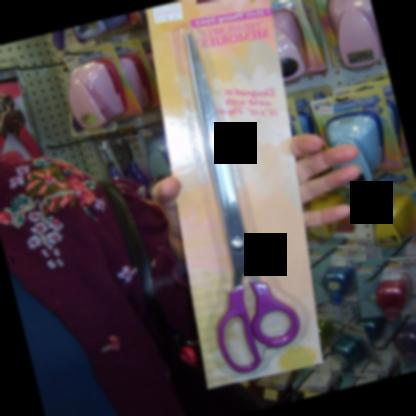handbag: (95, 179, 272, 416)
